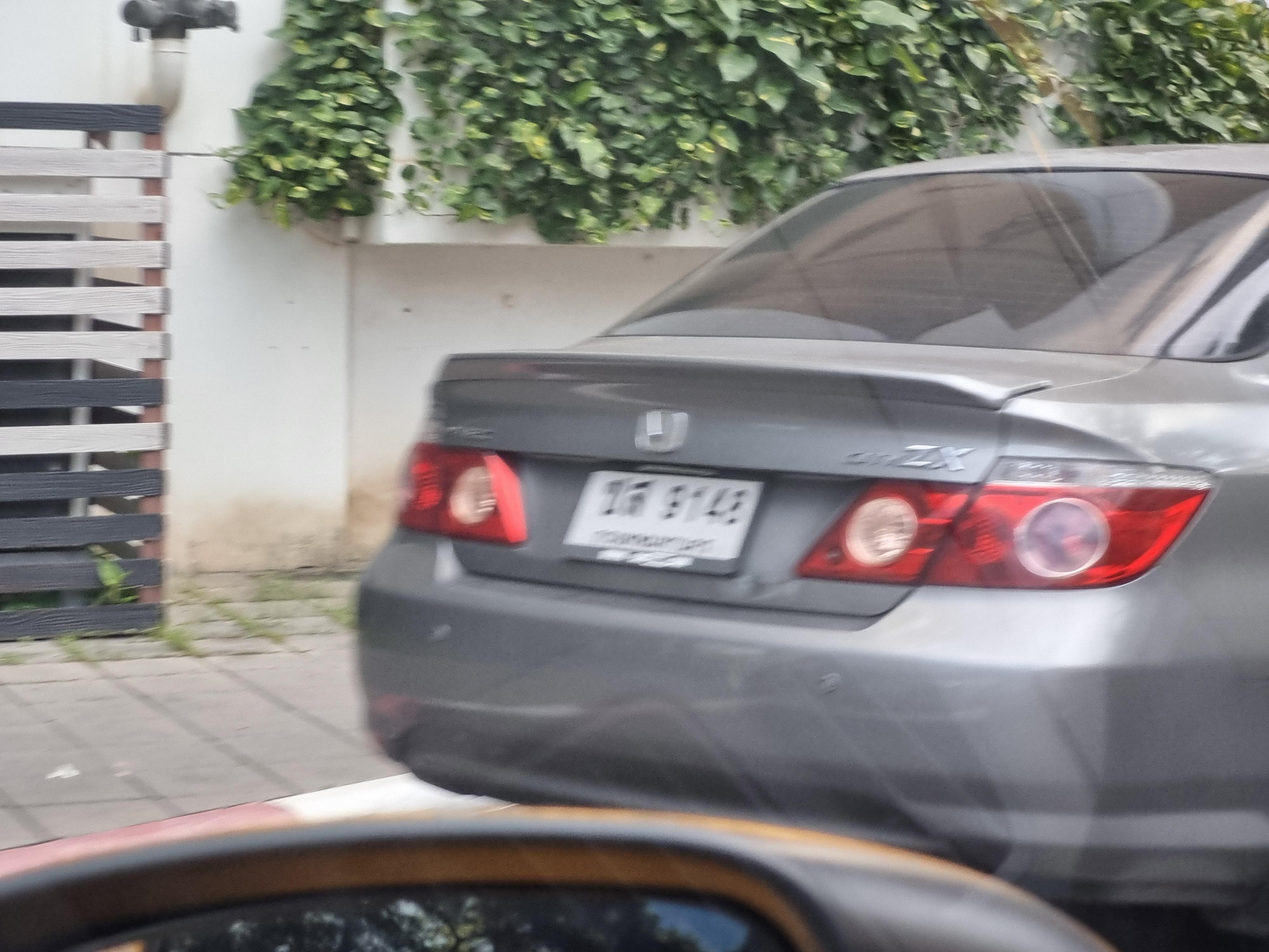license-plate: (568, 460, 763, 568)
